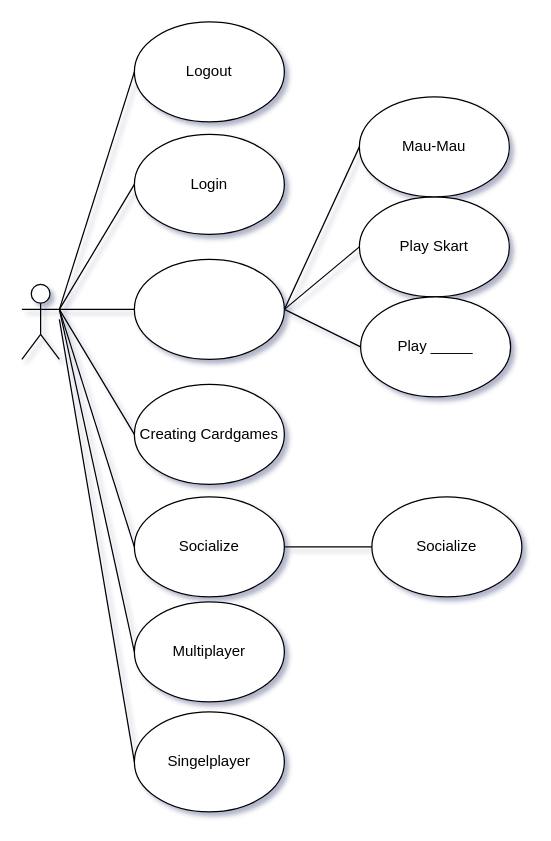
The diagram is 551 pixels wide and 841 high, and some of its shapes have lost their labels. Here are the shapes that lost their labels. From the top down, the centre of each, then its label:
(40,321): Actor
(208,308): Playing Cards
